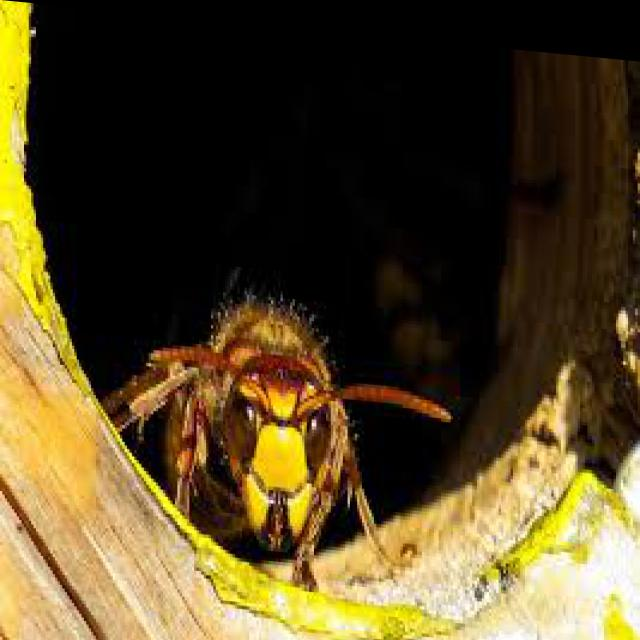Vespa Velutina: (94, 234, 459, 610)
